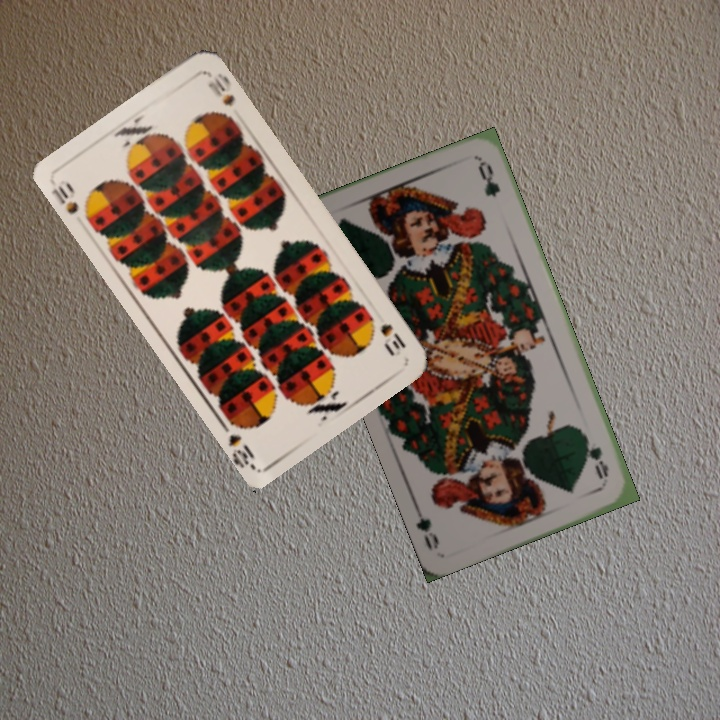GO: (578, 430, 612, 482)
S10: (48, 178, 93, 226), (376, 319, 409, 357)
